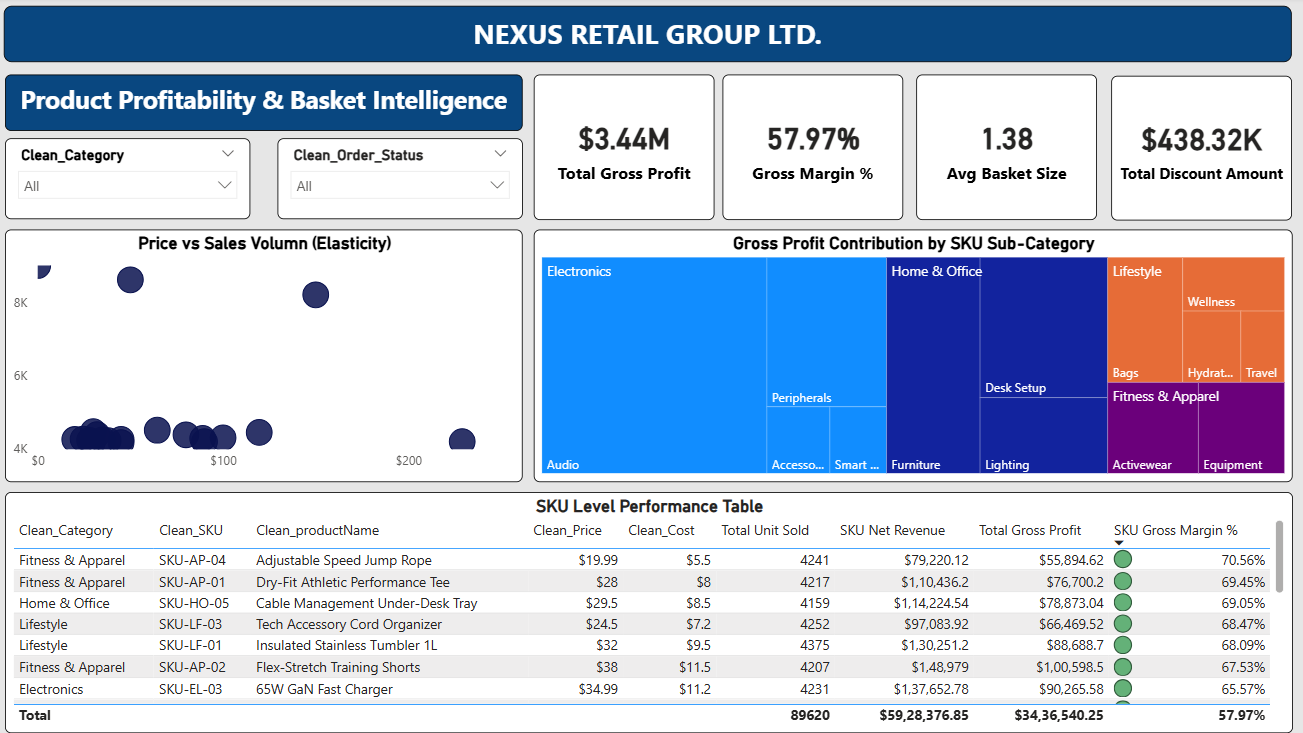

The dashboard page shown, as its layout file describes it:
{"tool":"powerbi","page":{"name":"Product Profitability & Basket Intelligence","canvas":[1280,720],"ordinal":3},"visuals":[{"type":"textbox","box":[9,8,1260,55],"z":0},{"type":"textbox","box":[9.6,75.5,506.3,54.9],"z":1000},{"type":"slicer","fields":{"Values":["Dim_Products.Clean_Category"]},"box":[9.6,138.6,240,79.6],"z":2000},{"type":"slicer","fields":{"Values":["Fact_Orders.Clean_Order_Status"]},"box":[275.8,138.6,240.1,79.6],"z":3000},{"type":"card","fields":{"Values":["Measures (2).Total Gross Profit"]},"box":[526.9,75.5,177,142.7],"z":4000},{"type":"card","fields":{"Values":["Measures (2).Total Discount Amount"]},"box":[1092.3,76.8,177,141.3],"z":5000},{"type":"card","fields":{"Values":["Measures (2).Gross Margin %"]},"box":[712.2,75.5,177,142.7],"z":6000},{"type":"card","fields":{"Values":["Measures (2).Avg Basket Size"]},"box":[901.5,75.5,177,142.7],"z":7000},{"type":"treemap","title":"Gross Profit Contribution by SKU Sub-Category","fields":{"Group":["Dim_Products.Clean_Category"],"Details":["Dim_Products.Clean_SubCategory"],"Values":["Measures (2).Total Gross Profit"]},"box":[526.9,227.8,742.4,247],"z":8000},{"type":"scatterChart","title":"Price vs Sales Volumn (Elasticity)","fields":{"X":["Dim_Products.Clean_Price"],"Y":["Measures (2).Total Quantity"],"Size":["Measures (2).Total Net Revenue"]},"box":[9.6,227.8,506.3,247],"z":9000},{"type":"tableEx","title":"SKU Level Performance Table","fields":{"Values":["Dim_Products.Clean_Category","Dim_Products.Clean_SKU","Dim_Products.Clean_productName","Dim_Products.Clean_Price","Dim_Products.Clean_Cost","Measures (2).Total Item Sold","Measures (2).SKU Net Revenue","Measures (2).Total Gross Profit","Measures (2).SKU Gross Margin %"]},"box":[9.6,484.4,1259.7,236],"z":10000}]}

Visuals, with their boxes in screenshot pixels (x1, y1, x2, y2), scaled from the page's 1280x720 canvas onto the 1303x733 screenshot:
textbox: [9, 8, 1292, 64]
textbox: [10, 77, 525, 133]
slicer - Dim_Products.Clean_Category: [10, 141, 254, 222]
slicer - Fact_Orders.Clean_Order_Status: [281, 141, 525, 222]
card - Measures (2).Total Gross Profit: [536, 77, 717, 222]
card - Measures (2).Total Discount Amount: [1112, 78, 1292, 222]
card - Measures (2).Gross Margin %: [725, 77, 905, 222]
card - Measures (2).Avg Basket Size: [918, 77, 1098, 222]
"Gross Profit Contribution by SKU Sub-Category" treemap: [536, 232, 1292, 483]
"Price vs Sales Volumn (Elasticity)" scatterChart: [10, 232, 525, 483]
"SKU Level Performance Table" tableEx: [10, 493, 1292, 732]
